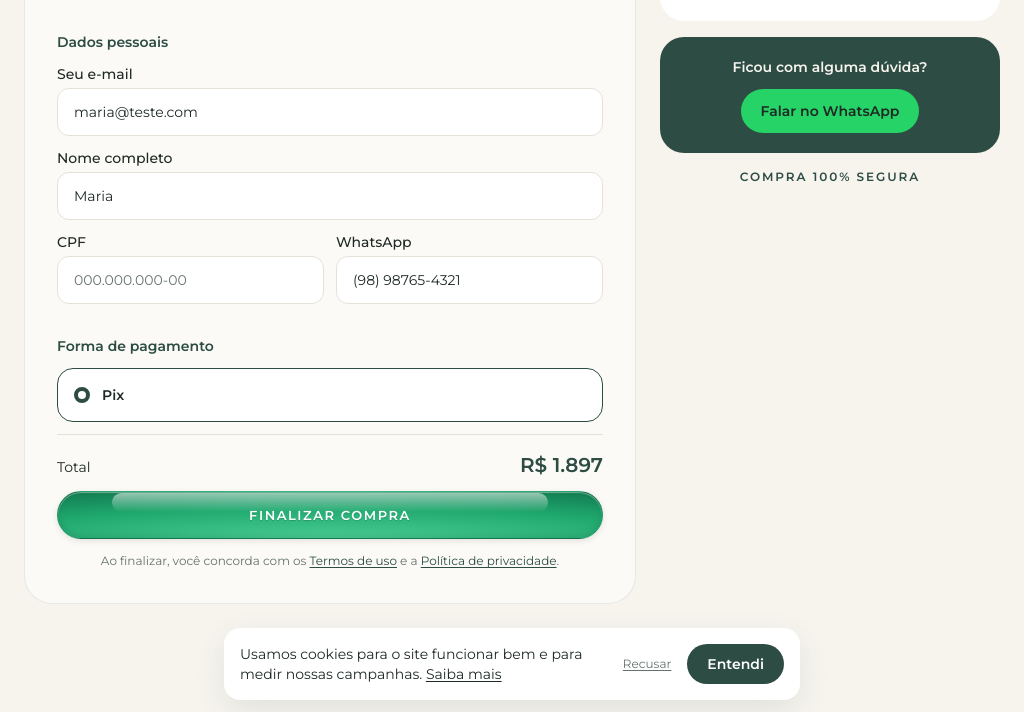
Scenario: CheckoutPage › pede nome completo
(page scrolled)
Click the button "Finalizar compra" at x=330, y=515, box [57, 491, 603, 539]
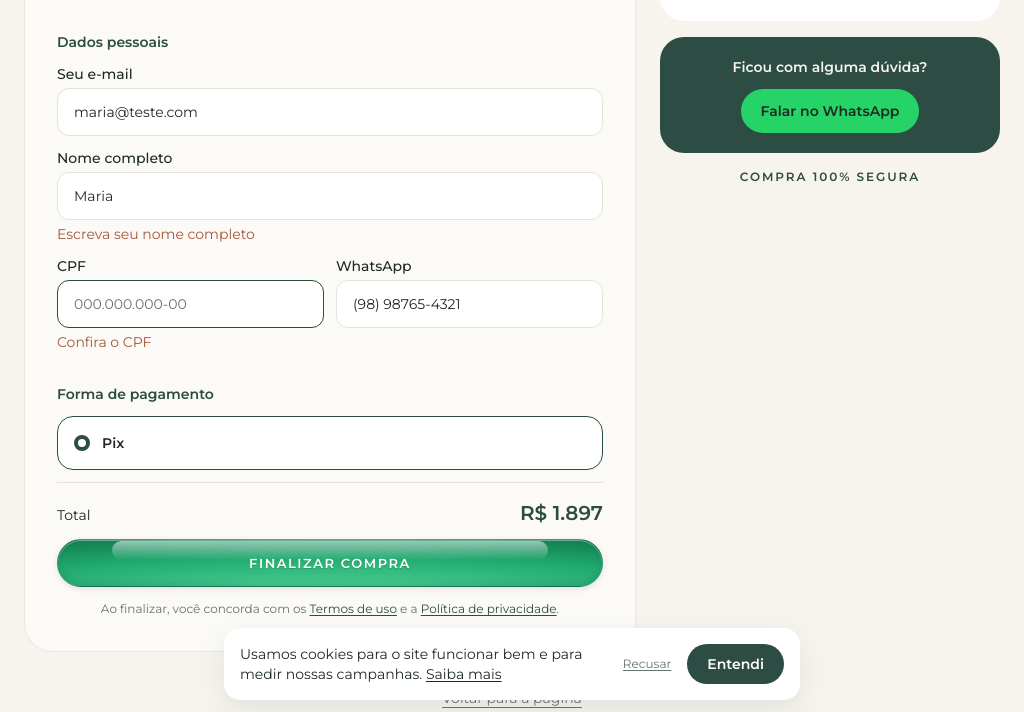
Expected: the text "Escreva seu nome completo" is shown, [57, 225, 255, 243]
